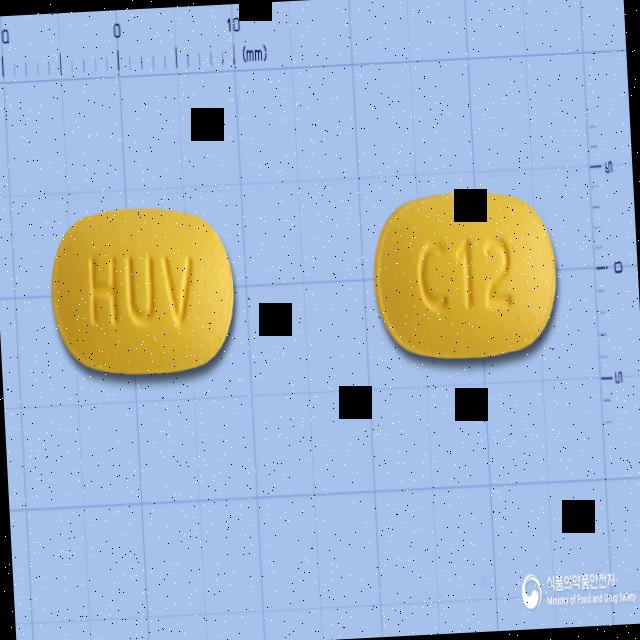Clavit: (368, 184, 564, 372), (49, 199, 242, 387)
